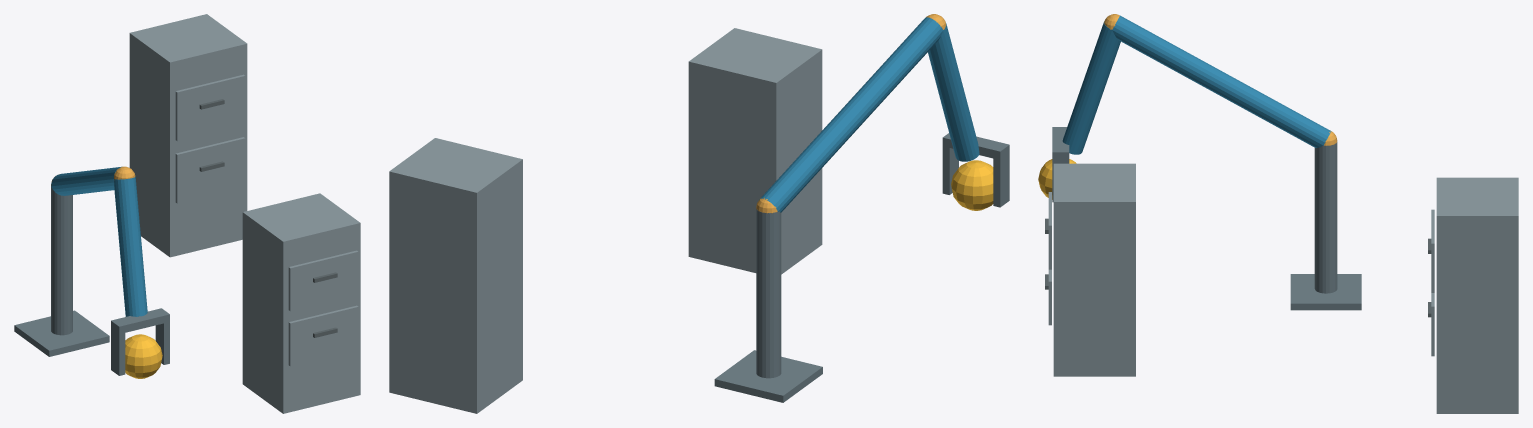
The picture shows the model from 3 angles, left to right: view 1: azimuth 30°, elevation 25°; view 2: azimuth 150°, elevation 25°; view 3: azimuth 270°, elevation 25°; orthographic projection. The views are drawn at different scales.
Visible parts, largest first — view 1: cabinet_2 body, cabinet_1 body, cabinet_2 drawer front.001, cabinet_2 drawer front, moving link 2, fixed post, cabinet_1 drawer front.001, cabinet_1 drawer front, pedestal, moving link 1, ball ball_1, gripper bridge (+2 smaller); view 2: cabinet_2 body, cabinet_1 body, moving link 1, fixed post, moving link 2, pedestal, ball ball_1, gripper finger -1, gripper bridge, gripper finger 1; view 3: cabinet_2 body, cabinet_1 body, moving link 1, fixed post, moving link 2, pedestal, gripper bridge, ball ball_1.
Part boxes in pixels (x1,y1,x2,y2): cabinet_2 body: (129, 14, 247, 257); cabinet_1 body: (242, 193, 360, 413); cabinet_2 drawer front.001: (175, 74, 245, 140); cabinet_2 drawer front: (175, 137, 245, 203); moving link 2: (113, 177, 147, 316); fixed post: (51, 186, 72, 335); cabinet_1 drawer front.001: (288, 250, 358, 311); cabinet_1 drawer front: (288, 305, 358, 366); pedestal: (14, 310, 109, 356); moving link 1: (51, 166, 121, 195); ball ball_1: (125, 334, 162, 378); gripper bridge: (111, 308, 169, 334); cabinet_2 body: (389, 138, 522, 413); cabinet_1 body: (688, 28, 822, 274); moving link 1: (759, 17, 943, 212); fixed post: (756, 209, 781, 378); moving link 2: (928, 22, 979, 161); pedestal: (714, 350, 822, 402); ball ball_1: (951, 160, 993, 210); gripper finger -1: (993, 153, 1009, 207); gripper bridge: (942, 133, 1009, 159); gripper finger 1: (942, 146, 958, 194); cabinet_2 body: (1436, 177, 1518, 413); cabinet_1 body: (1053, 163, 1135, 376); moving link 1: (1112, 15, 1331, 147); fixed post: (1314, 142, 1337, 293); moving link 2: (1062, 21, 1120, 154); pedestal: (1290, 274, 1361, 310); gripper bridge: (1052, 127, 1069, 159); ball ball_1: (1038, 159, 1076, 199).
Size of the model in its own units: 1.31 by 1.01 by 1.69.
